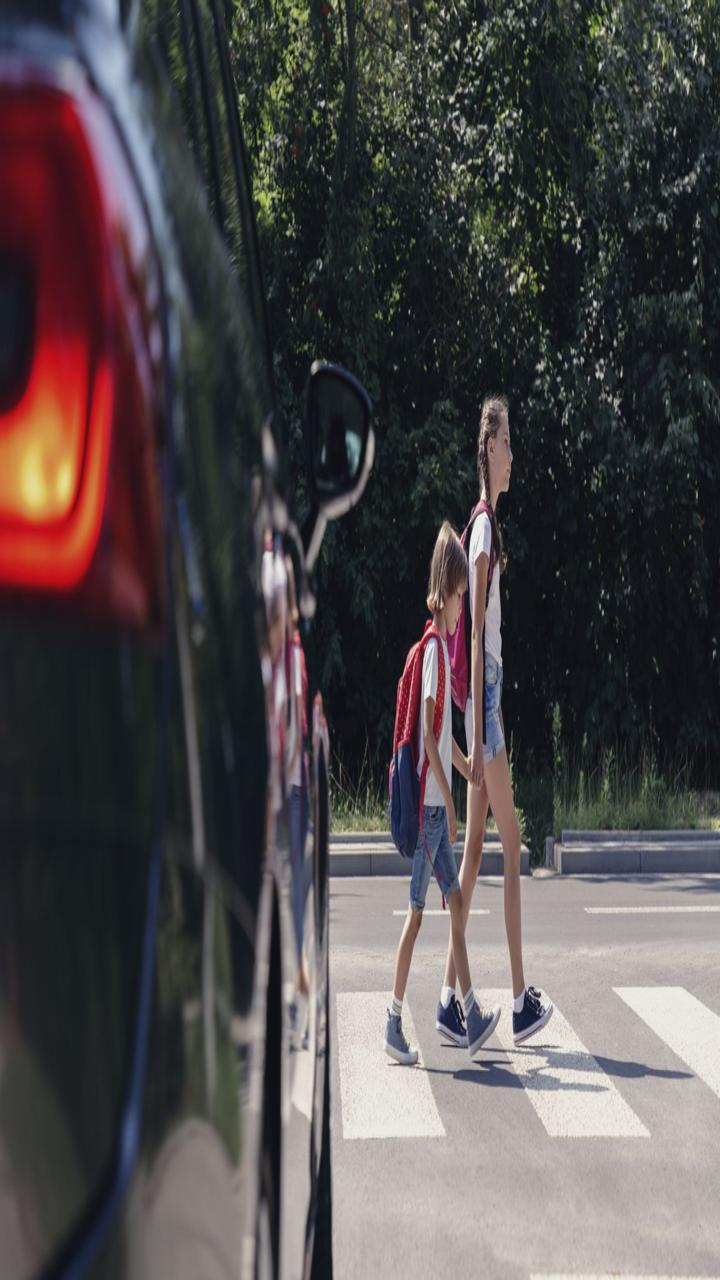pedestrian: (445, 388, 583, 1045), (370, 503, 502, 1076)
vehicle: (3, 4, 355, 1272)
